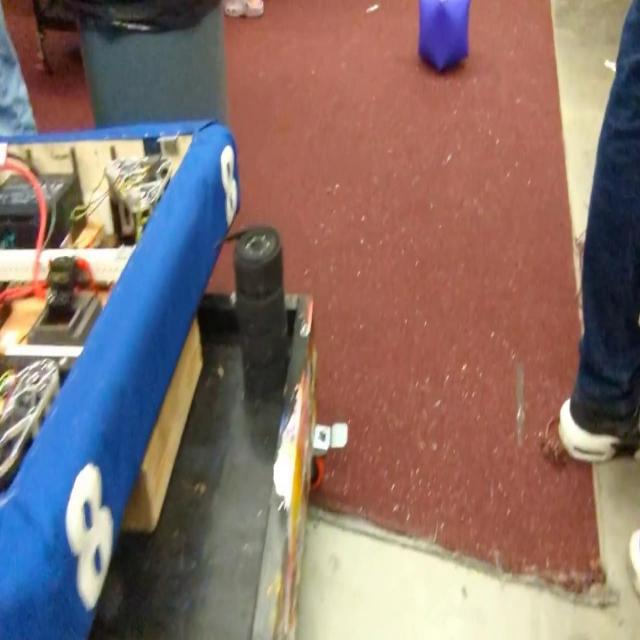frc_cube: (418, 0, 472, 76)
